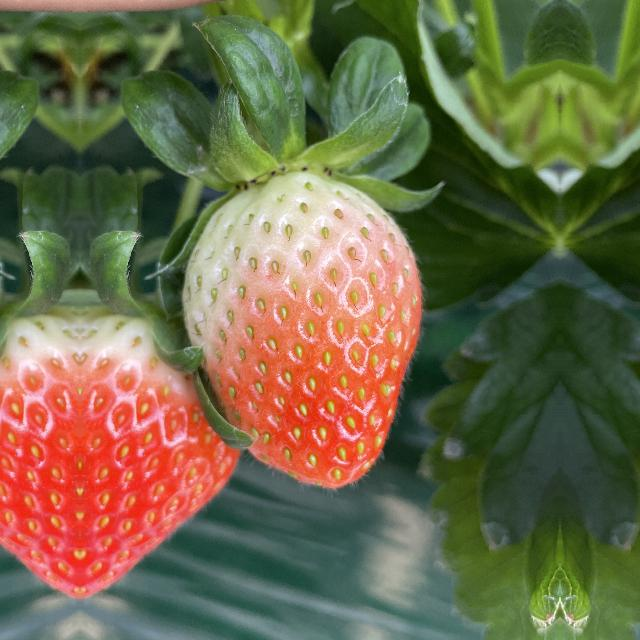Health_75: (184, 169, 432, 489), (81, 278, 235, 612), (0, 278, 79, 611)
